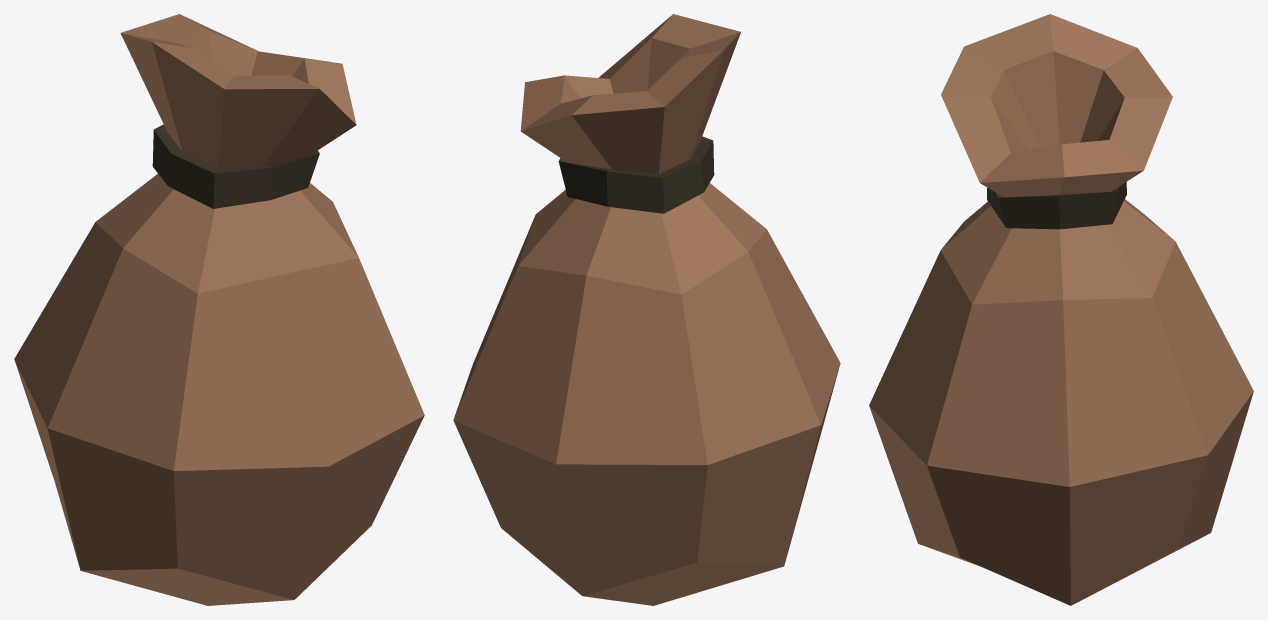
File: SM_CharacterAttachments_Pouch_02.fbx
3 views of the same model, side by side, from view 1: azimuth 30°, elevation 25°; view 2: azimuth 150°, elevation 25°; view 3: azimuth 270°, elevation 25° (orthographic). The views are drawn at different scales.
Visible parts, largest first — view 1: SM_CharacterAttachments_Pouch_02; view 2: SM_CharacterAttachments_Pouch_02; view 3: SM_CharacterAttachments_Pouch_02.
Part boxes in pixels (left/top/right/bottom): SM_CharacterAttachments_Pouch_02: left=14, top=14, right=424, bottom=605; SM_CharacterAttachments_Pouch_02: left=453, top=14, right=840, bottom=605; SM_CharacterAttachments_Pouch_02: left=869, top=14, right=1253, bottom=605.
Bounding box in the file's own units: 13.14 × 20.88 × 13.15.
Materials: 1 (1 with a texture image).
